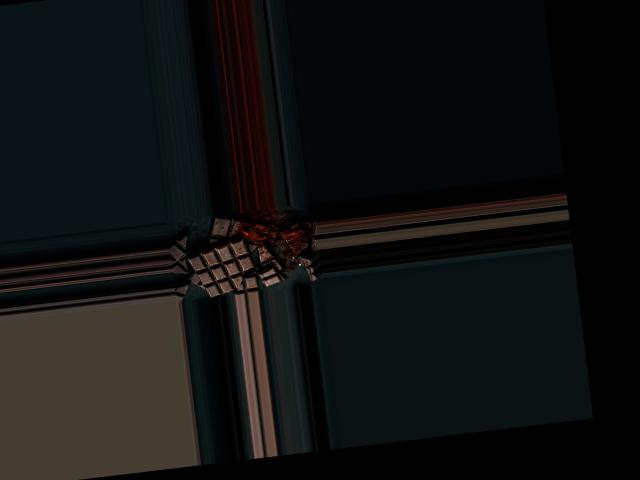chocolate: (184, 236, 256, 300)
